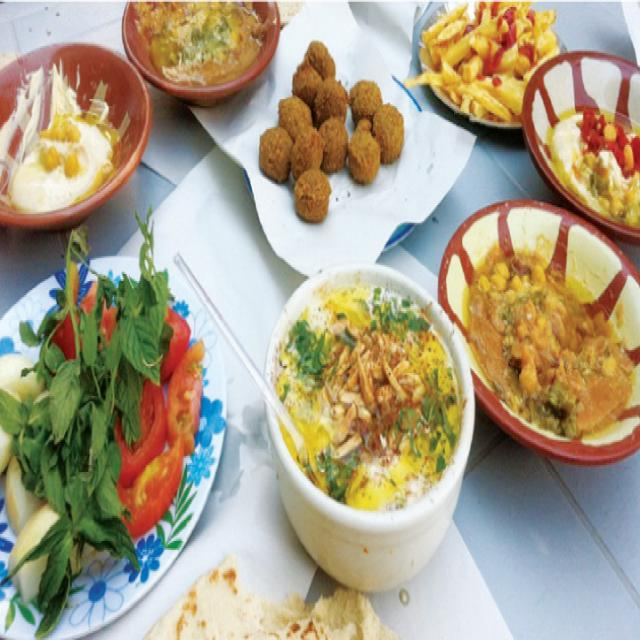Dish: (6, 280, 236, 620), (266, 242, 474, 592), (449, 170, 640, 477), (250, 32, 440, 279), (0, 24, 155, 235), (424, 0, 588, 166), (528, 41, 640, 246), (118, 7, 291, 131)
